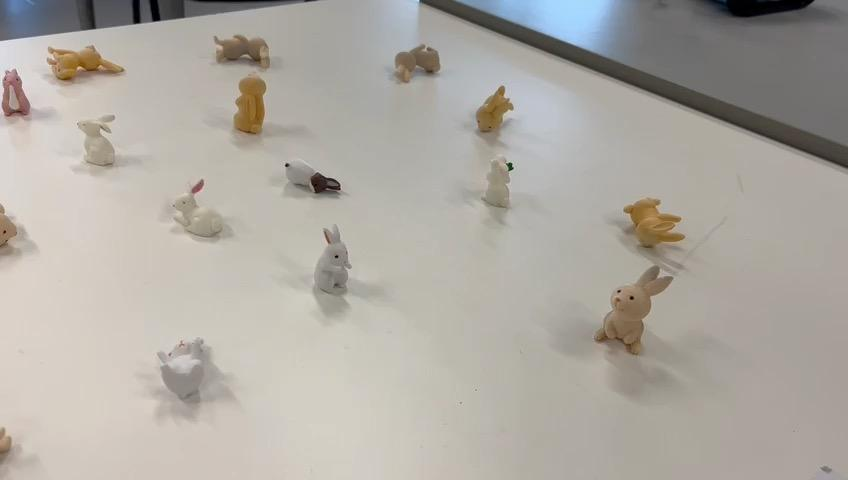pet: (591, 263, 675, 359), (153, 333, 212, 408), (41, 41, 131, 86), (164, 178, 226, 239), (621, 196, 689, 250), (310, 221, 354, 301), (75, 110, 121, 173), (280, 156, 347, 197), (228, 71, 270, 135), (470, 79, 517, 136), (391, 40, 447, 87), (212, 30, 274, 71), (479, 152, 517, 214), (0, 65, 34, 120)
